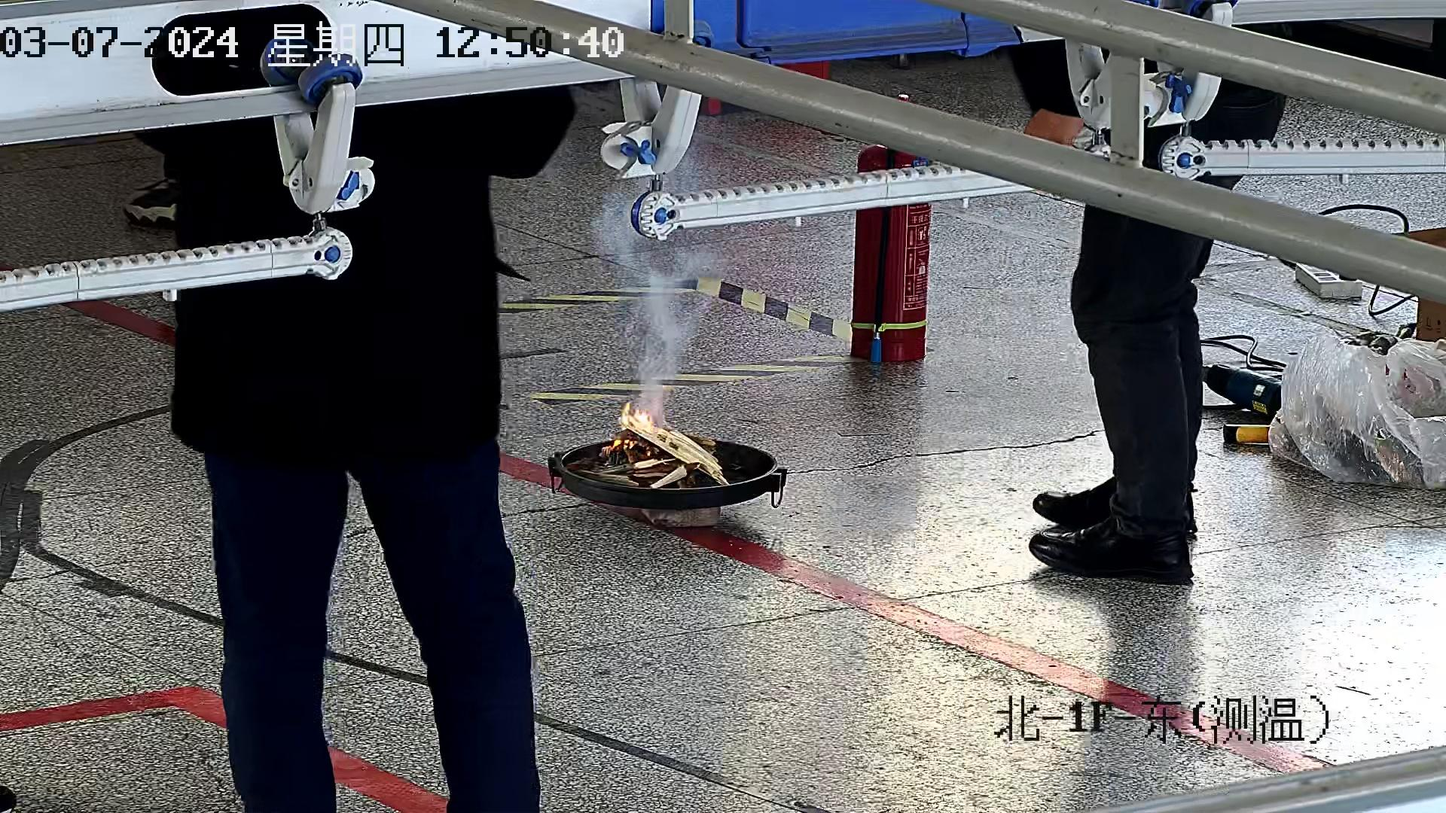fire: (604, 402, 667, 461)
smoke: (594, 178, 733, 425), (660, 133, 715, 195)
